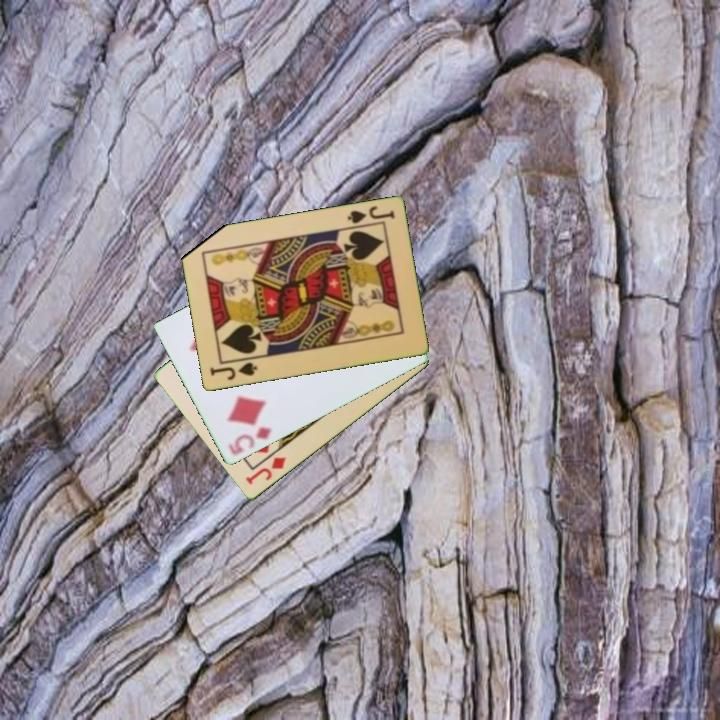5d: (225, 423, 275, 459)
Jd: (242, 454, 289, 488)
Js: (206, 359, 260, 383), (344, 203, 397, 227)
